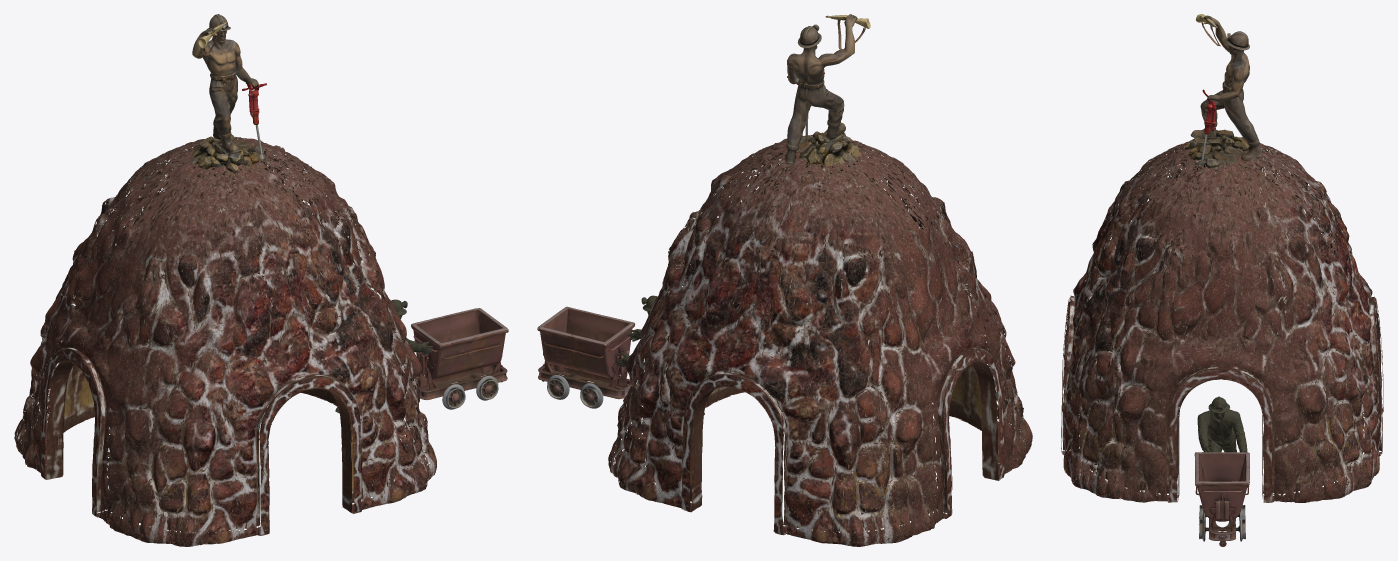
Rendered from completomina.glb.
3 renders of one model, left to right at view 1: azimuth 30°, elevation 25°; view 2: azimuth 150°, elevation 25°; view 3: azimuth 270°, elevation 25°, orthographic. The views are drawn at different scales.
Visible parts, largest first — view 1: Mesh_0, tripo_node_fdb5bc12-be96-42a7-8eeb-189739f28ac1, tripo_node_a78746ad-e430-4bb9-a908-b65e668cf3d3; view 2: Mesh_0, tripo_node_fdb5bc12-be96-42a7-8eeb-189739f28ac1, tripo_node_a78746ad-e430-4bb9-a908-b65e668cf3d3; view 3: Mesh_0, tripo_node_a78746ad-e430-4bb9-a908-b65e668cf3d3, tripo_node_fdb5bc12-be96-42a7-8eeb-189739f28ac1, tripo_node_aef1d1d5-5db7-4744-b4e1-b4a286b8fc78.
Part boxes in pixels (x1,y1,x2,y2): Mesh_0: [14, 137, 436, 546]; tripo_node_fdb5bc12-be96-42a7-8eeb-189739f28ac1: [411, 308, 508, 409]; tripo_node_a78746ad-e430-4bb9-a908-b65e668cf3d3: [189, 14, 266, 179]; Mesh_0: [608, 135, 1032, 546]; tripo_node_fdb5bc12-be96-42a7-8eeb-189739f28ac1: [537, 306, 635, 408]; tripo_node_a78746ad-e430-4bb9-a908-b65e668cf3d3: [782, 14, 870, 174]; Mesh_0: [1061, 137, 1383, 502]; tripo_node_a78746ad-e430-4bb9-a908-b65e668cf3d3: [1183, 14, 1261, 171]; tripo_node_fdb5bc12-be96-42a7-8eeb-189739f28ac1: [1194, 452, 1249, 546]; tripo_node_aef1d1d5-5db7-4744-b4e1-b4a286b8fc78: [1197, 396, 1247, 452].
Size of the model in its own units: 2.49 by 2.43 by 1.74.
Materials: 4 (4 with a texture image).
